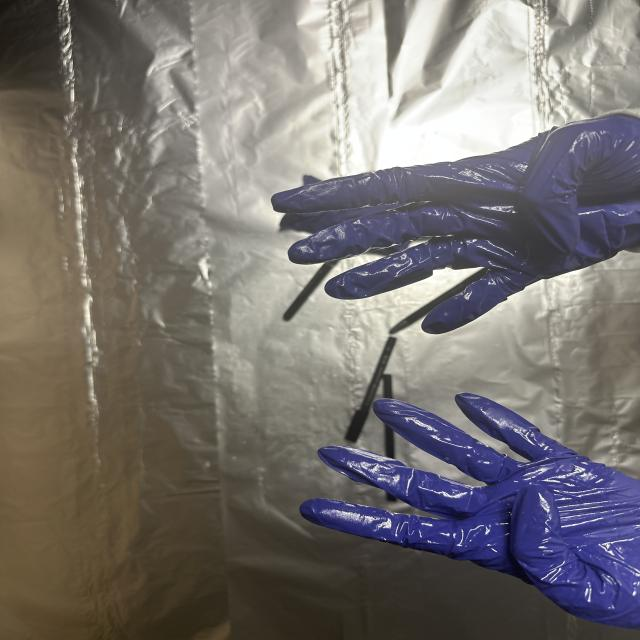gloves_contaminated: (272, 111, 640, 333), (300, 393, 640, 629)
